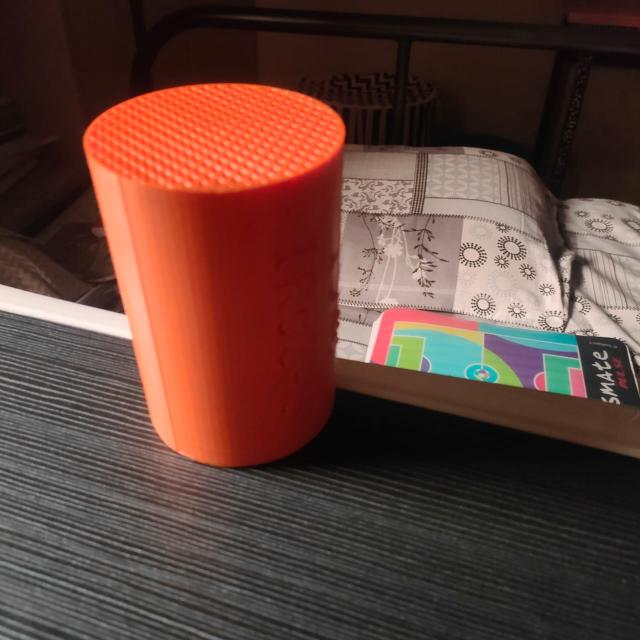Cylinder: (81, 80, 347, 468)
